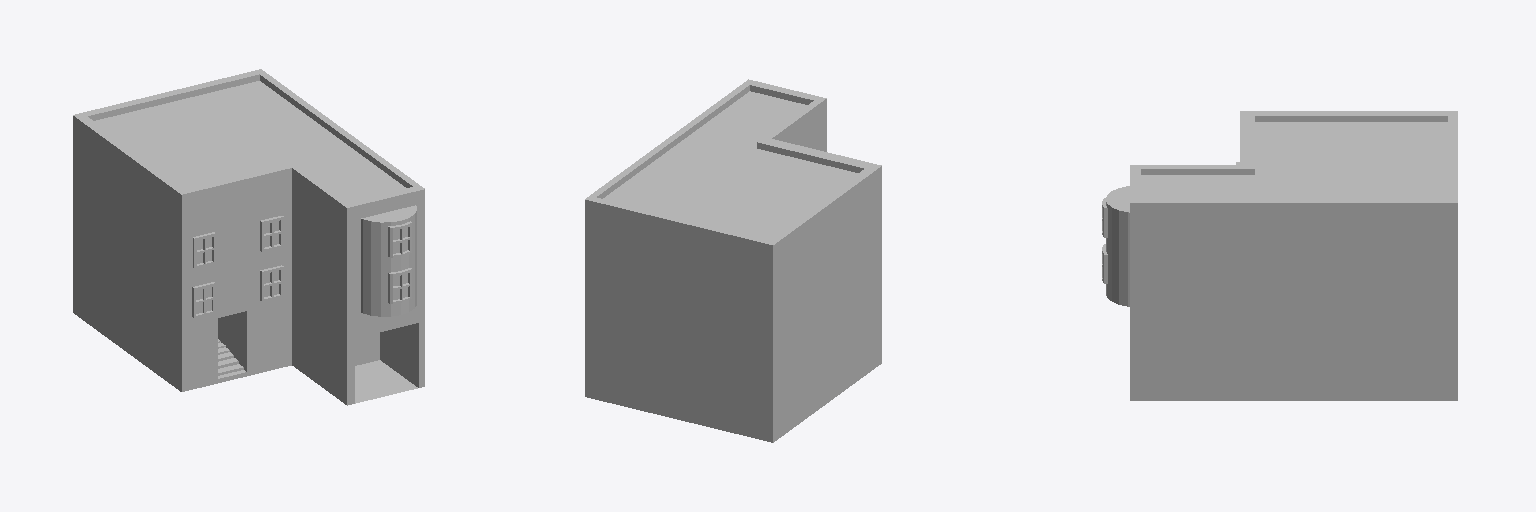
The model's file is Building 005.obj.
3 views of the same model, side by side, from view 1: azimuth 30°, elevation 25°; view 2: azimuth 150°, elevation 25°; view 3: azimuth 270°, elevation 25° (orthographic).
Parts seen in each view (by area): view 1: pCube65; view 2: pCube65; view 3: pCube65.
Boxes of the visible parts, x1=… form: pCube65: x1=73, y1=69, x2=424, y2=405; pCube65: x1=585, y1=79, x2=881, y2=442; pCube65: x1=1102, y1=111, x2=1457, y2=400.
Bounding box in the file's own units: 1 × 1 × 1.63.